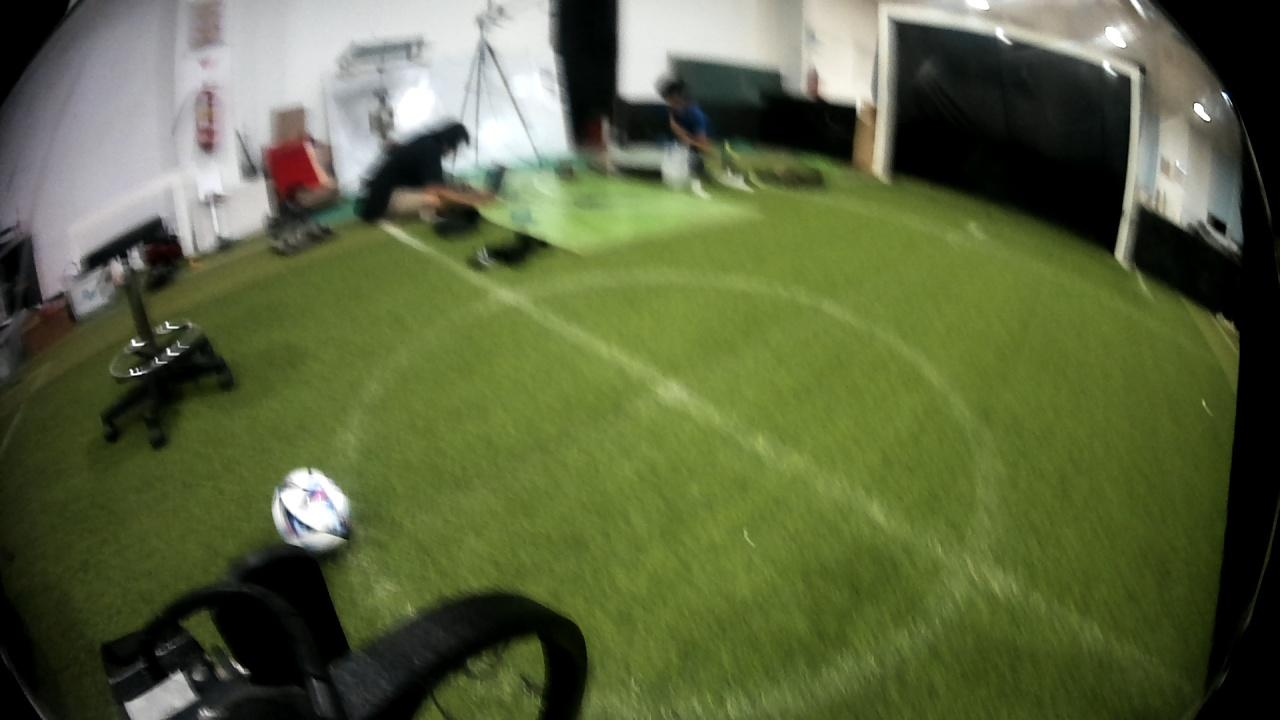ball: (267, 457, 359, 565)
